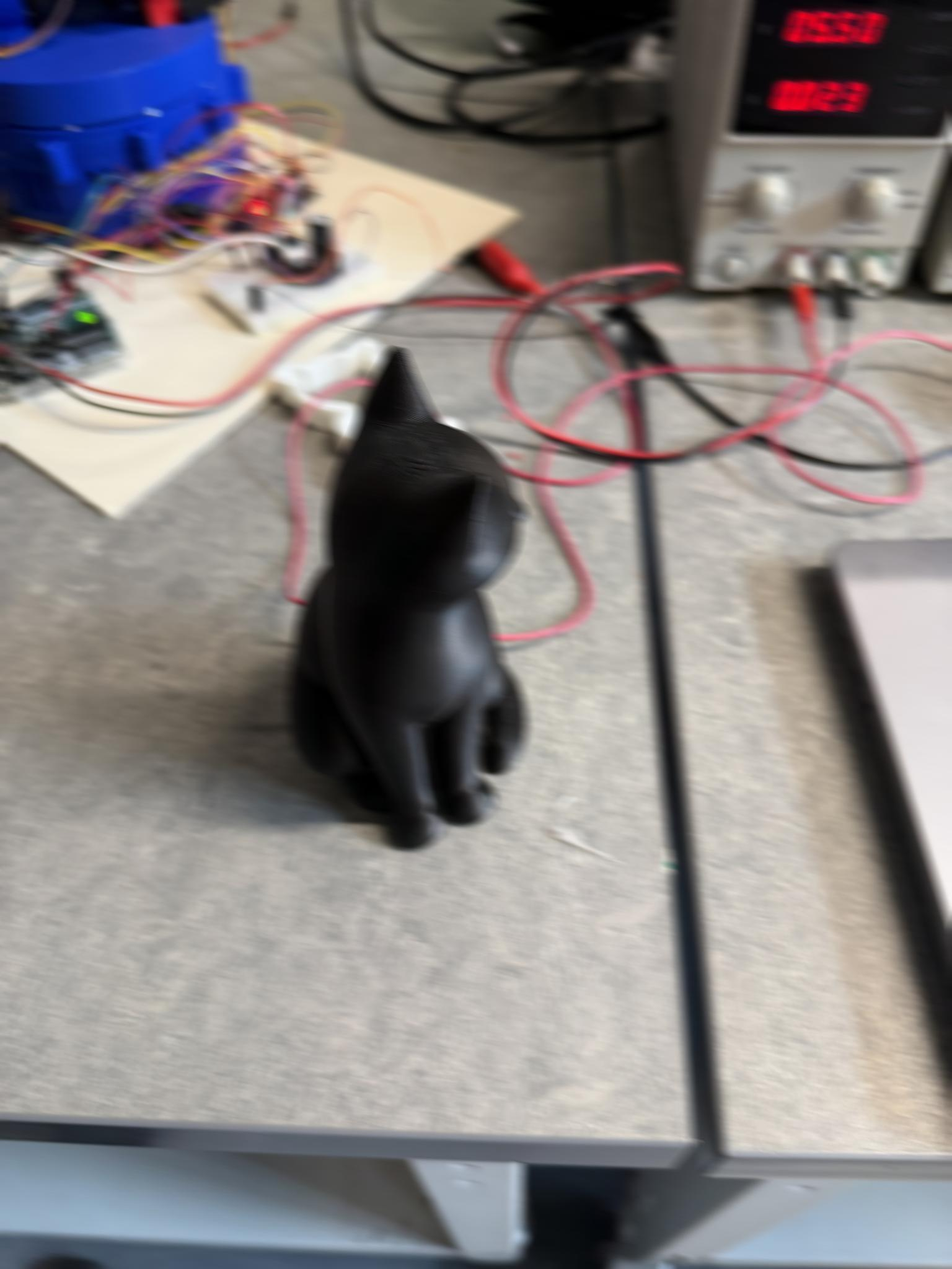cat: (286, 347, 527, 850)
